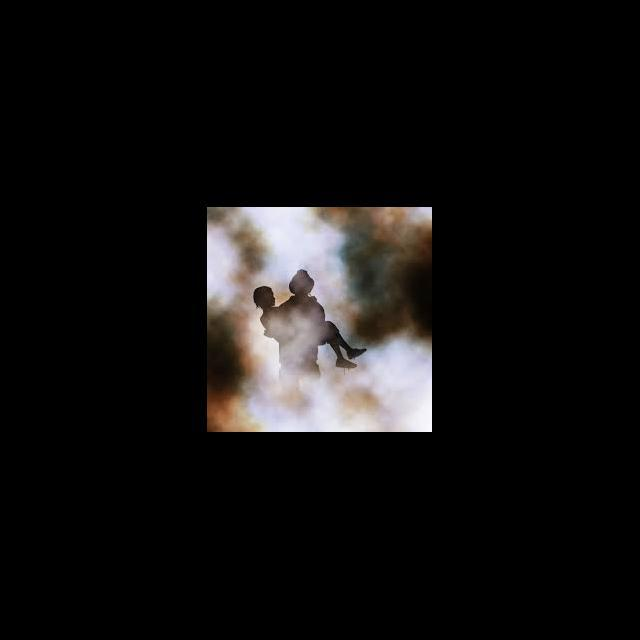Fire: (208, 382, 432, 432)
Smoke: (356, 232, 432, 334)
